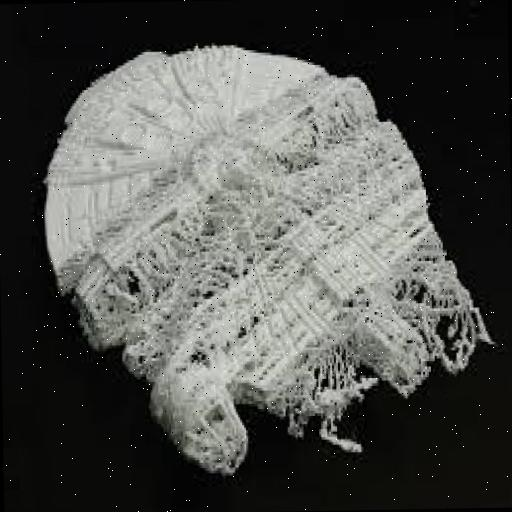spaghetti: (123, 150, 488, 488)
